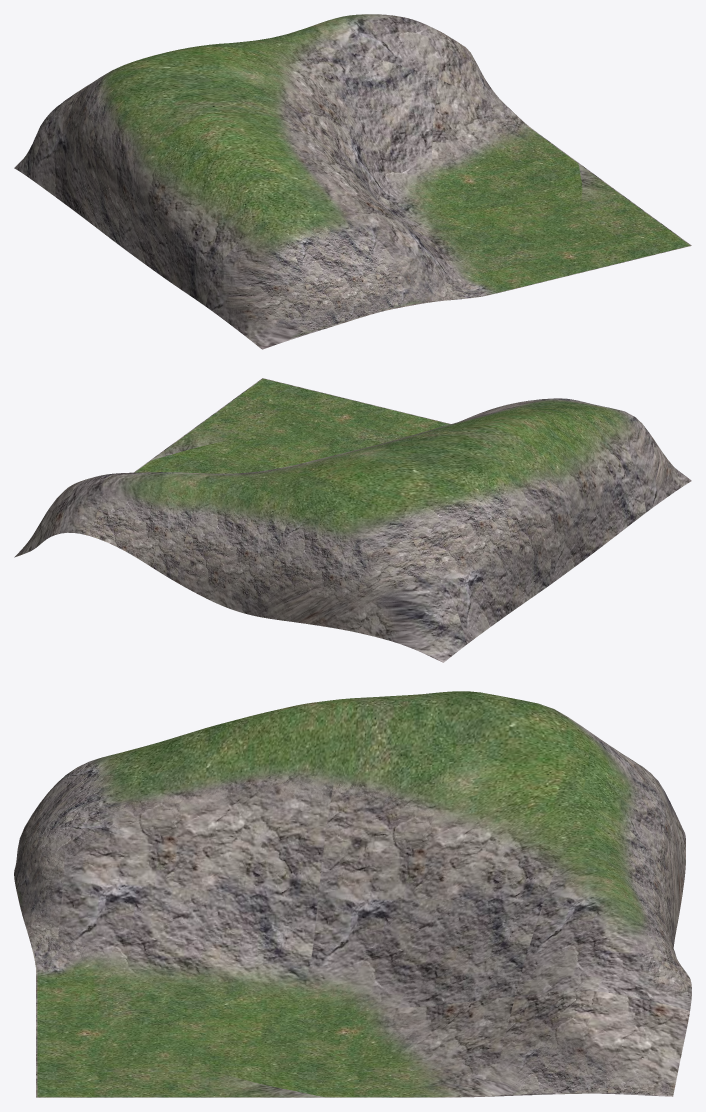
Rendered from Terrain.fbx.
3 views of the same model, one above another, from view 1: azimuth 30°, elevation 25°; view 2: azimuth 150°, elevation 25°; view 3: azimuth 270°, elevation 25° (orthographic). The views are drawn at different scales.
Parts seen in each view (by area): view 1: Plane; view 2: Plane; view 3: Plane.
Boxes of the visible parts, <box> form: Plane: <box>14,14,691,349</box>; Plane: <box>14,378,691,662</box>; Plane: <box>14,691,691,1097</box>.
Size of the model in its own units: 3278 by 917 by 3410.
Materials: 1 (1 with a texture image).
